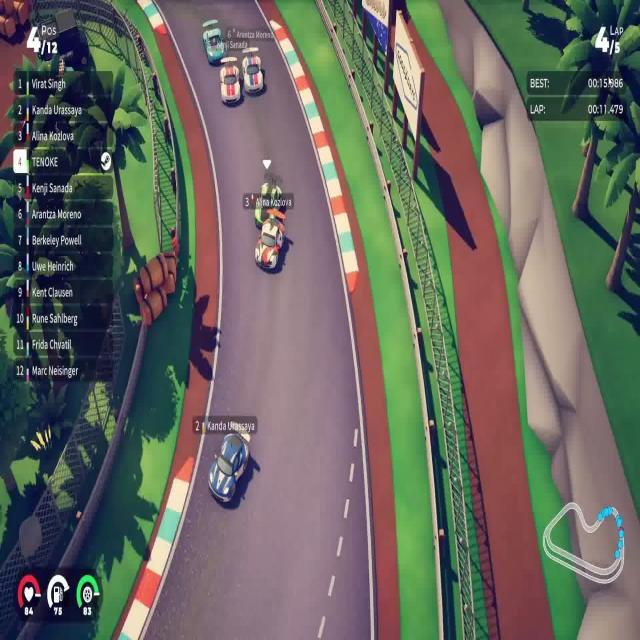car: (208, 429, 250, 504), (256, 166, 284, 226), (254, 216, 283, 272), (241, 51, 264, 95), (219, 61, 241, 106)
